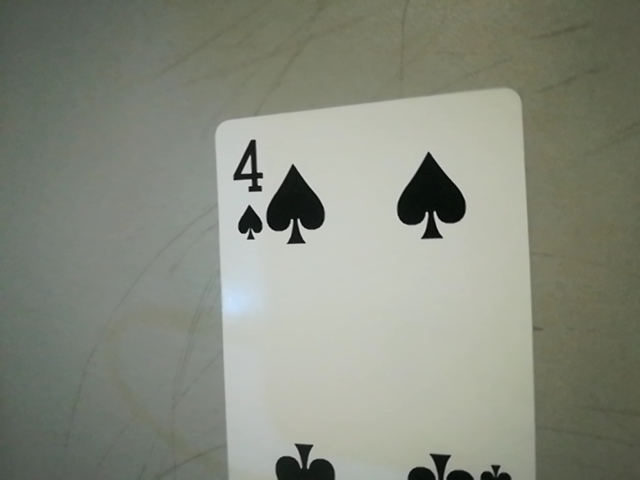ht 4: (221, 131, 273, 246)
